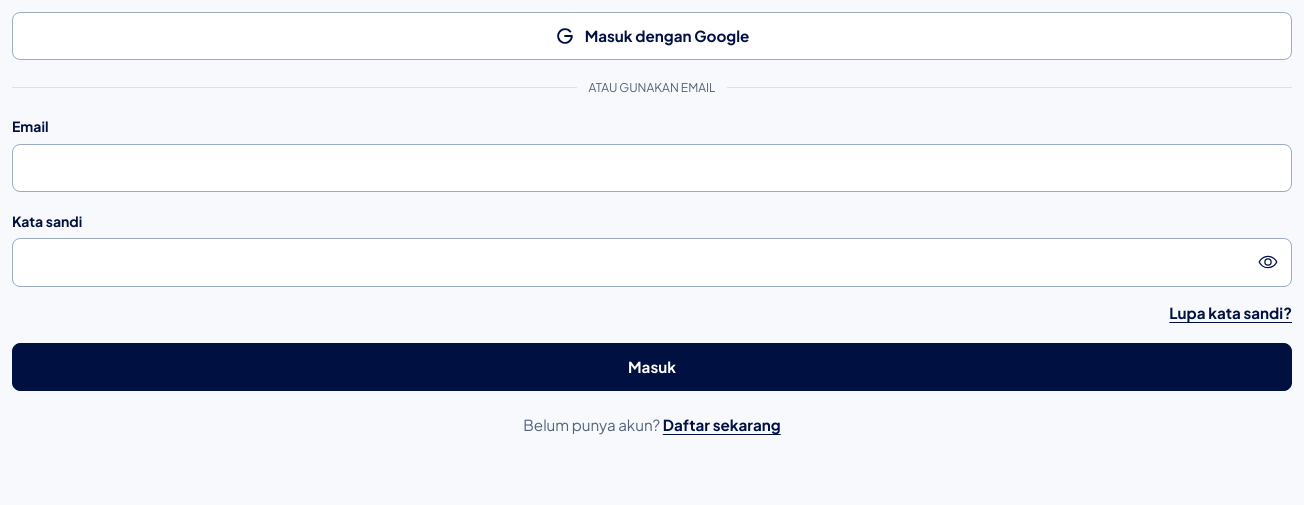
Test case: LoginForm › links inline errors on invalid submit
Click the button "Masuk".
click(652, 367)  # box [12, 343, 1292, 391]
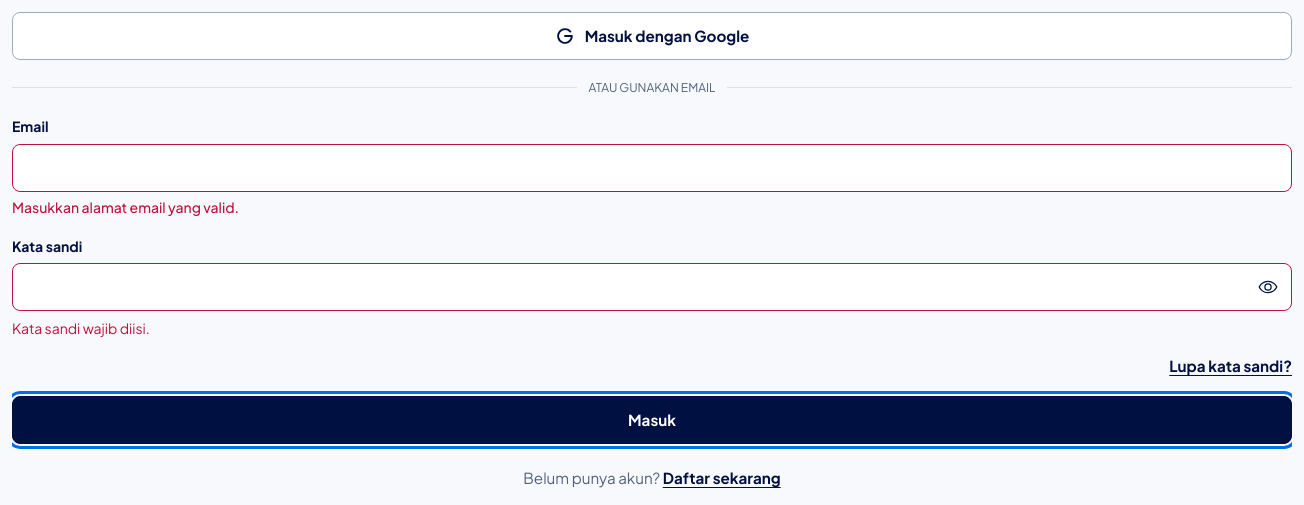
Check: the text with id "login-email-error" reads "Masukkan alamat email yang valid.", box [12, 198, 239, 216]
Check: the text with id "login-password-error" reads "Kata sandi wajib diisi.", box [12, 319, 150, 337]
